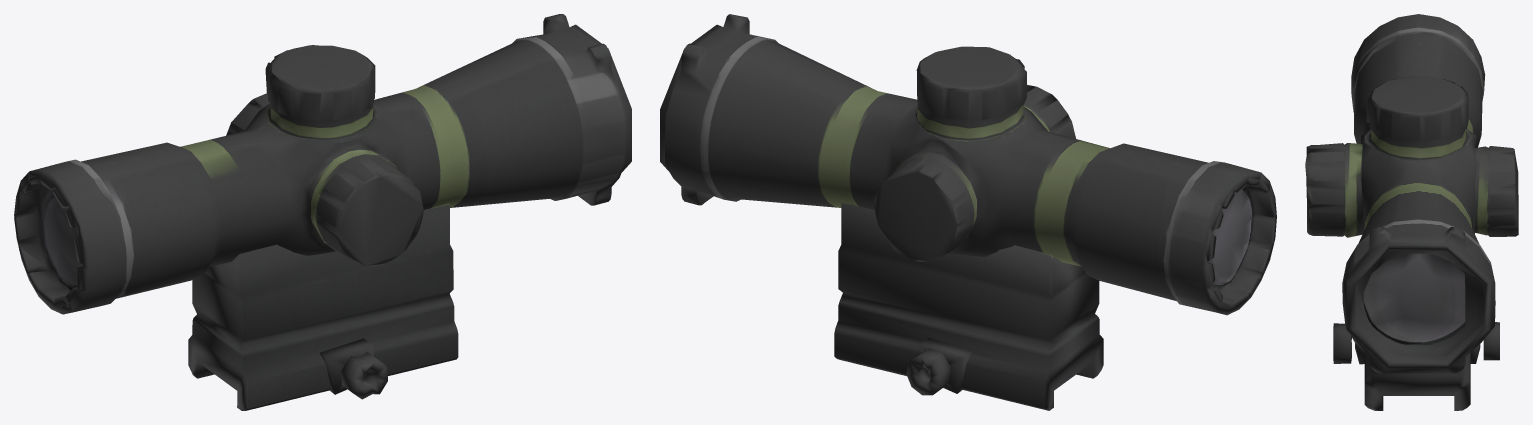
The model's file is sight_combat_3x.glb.
The picture shows the model from 3 angles, left to right: view 1: azimuth 30°, elevation 25°; view 2: azimuth 150°, elevation 25°; view 3: azimuth 270°, elevation 25°; orthographic projection. The views are drawn at different scales.
Size of the model in its own units: 0.9561 by 0.5073 by 0.3633.
Materials: 1 (1 with a texture image).
